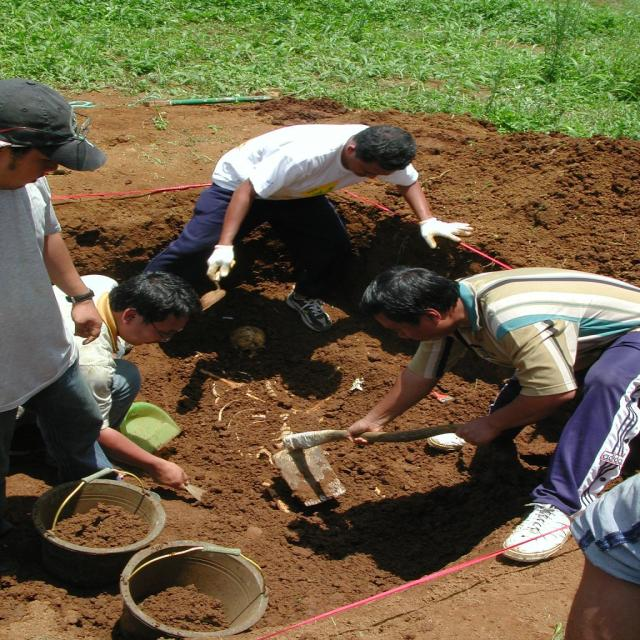body: (333, 259, 639, 567), (138, 121, 479, 333), (0, 76, 108, 541), (48, 270, 204, 492), (561, 380, 639, 638)
